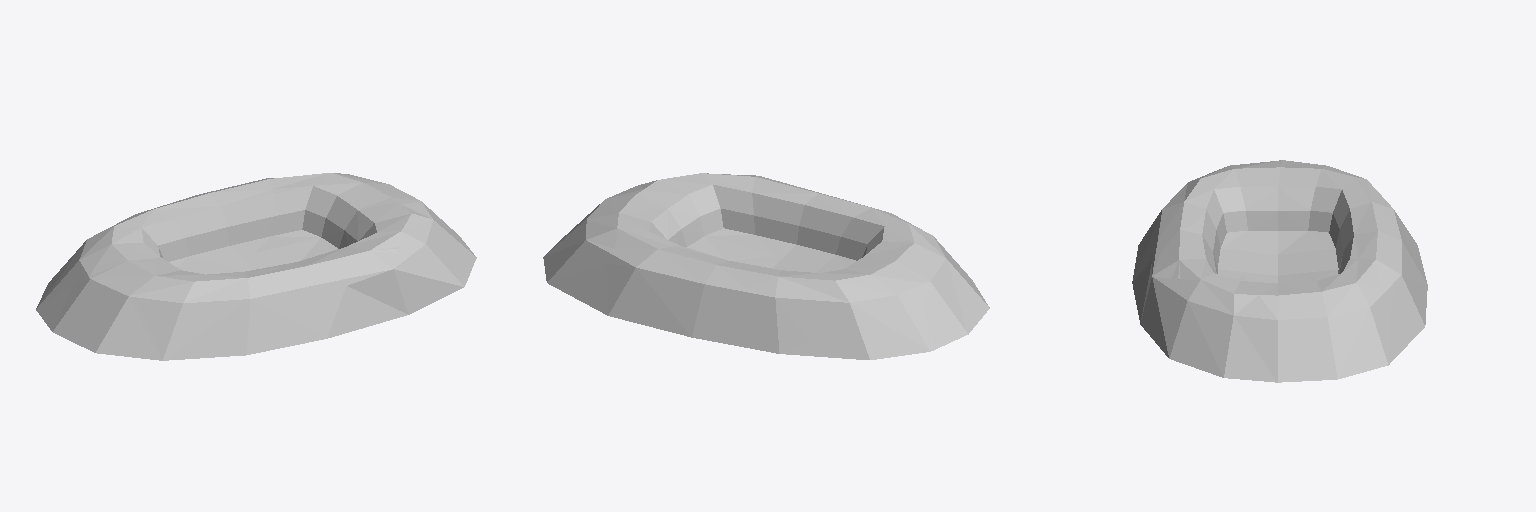
The model's file is GroundHole_3.obj.
The picture shows the model from 3 angles: view 1: azimuth 30°, elevation 25°; view 2: azimuth 150°, elevation 25°; view 3: azimuth 270°, elevation 25°; orthographic projection.
Parts seen in each view (by area): view 1: GroundHole_3; view 2: GroundHole_3; view 3: GroundHole_3.
Boxes of the visible parts, x1,y1,x2,y2 form: GroundHole_3: [36, 173, 476, 360]; GroundHole_3: [543, 173, 989, 359]; GroundHole_3: [1132, 160, 1427, 382].
Size of the model in its own units: 2.6 by 0.3448 by 1.65.